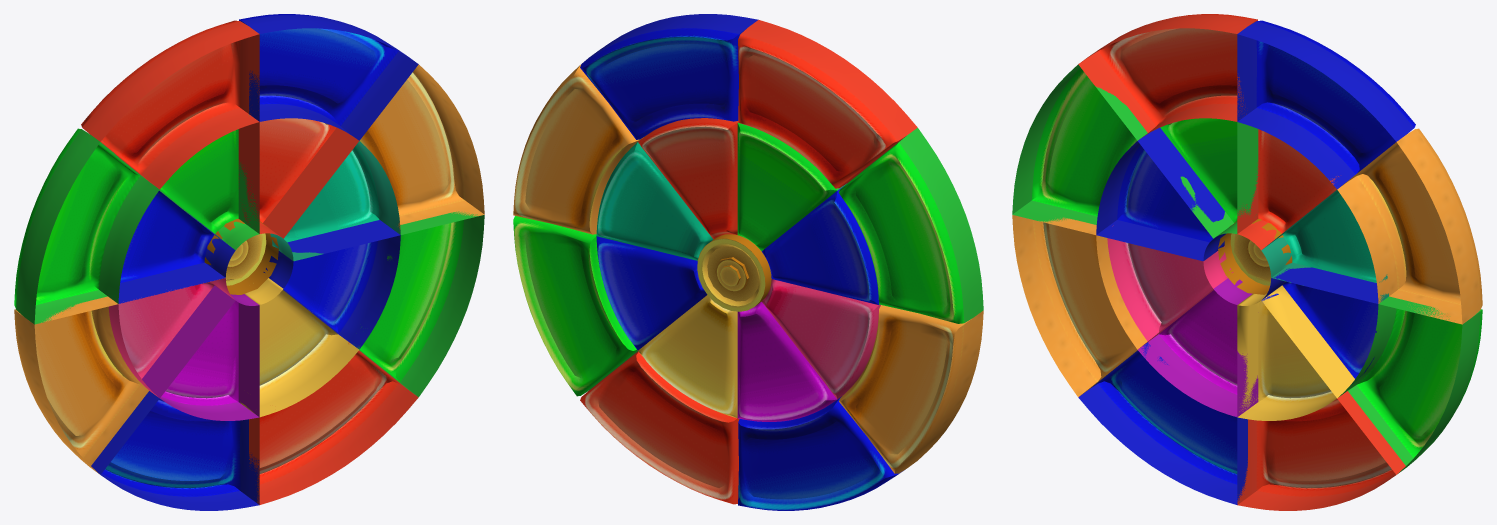
The model's file is Paris Bonus Wheel.FBX.
3 renders of one model, left to right at view 1: azimuth 30°, elevation 25°; view 2: azimuth 150°, elevation 25°; view 3: azimuth 330°, elevation 25°, orthographic.
Parts seen in each view (by area): view 1: Paris Bonus Wheel Outside Piece 02, Paris Bonus Wheel Outside Piece 03, Paris Bonus Wheel Outside Piece 01, Paris Bonus Wheel Outside Piece 05, Paris Bonus Wheel Outside Piece 07, Paris Bonus Wheel Outside Piece 04, Paris Bonus Wheel Outside Piece 06, Paris Bonus Wheel Outside Piece 08, Paris Bonus Wheel Inside Piece 05, Paris Bonus Wheel Inside Piece 07, Paris Bonus Wheel Inside Piece 01, Paris Bonus Wheel Inside Piece 06 (+5 smaller); view 2: Paris Bonus Wheel Outside Piece 03, Paris Bonus Wheel Outside Piece 02, Paris Bonus Wheel Outside Piece 04, Paris Bonus Wheel Outside Piece 01, Paris Bonus Wheel Outside Piece 07, Paris Bonus Wheel Outside Piece 06, Paris Bonus Wheel Outside Piece 05, Paris Bonus Wheel Outside Piece 08, Paris Bonus Wheel Inside Piece 04, Paris Bonus Wheel Inside Piece 01, Paris Bonus Wheel Inside Piece 02, Paris Bonus Wheel Inside Piece 03 (+5 smaller); view 3: Paris Bonus Wheel Outside Piece 01, Paris Bonus Wheel Outside Piece 08, Paris Bonus Wheel Outside Piece 04, Paris Bonus Wheel Outside Piece 07, Paris Bonus Wheel Outside Piece 02, Paris Bonus Wheel Outside Piece 05, Paris Bonus Wheel Outside Piece 06, Paris Bonus Wheel Outside Piece 03, Paris Bonus Wheel Inside Piece 03, Paris Bonus Wheel Inside Piece 06, Paris Bonus Wheel Inside Piece 05, Paris Bonus Wheel Inside Piece 02 (+5 smaller).
Boxes of the visible parts, box(x1,y1,x2,y2) form: Paris Bonus Wheel Outside Piece 02: box(81, 20, 259, 189); Paris Bonus Wheel Outside Piece 03: box(14, 128, 159, 324); Paris Bonus Wheel Outside Piece 01: box(239, 14, 418, 140); Paris Bonus Wheel Outside Piece 05: box(91, 391, 259, 510); Paris Bonus Wheel Outside Piece 07: box(354, 211, 484, 397); Paris Bonus Wheel Outside Piece 04: box(14, 296, 148, 474); Paris Bonus Wheel Outside Piece 06: box(249, 342, 418, 504); Paris Bonus Wheel Outside Piece 08: box(359, 64, 484, 229); Paris Bonus Wheel Inside Piece 05: box(142, 285, 259, 420); Paris Bonus Wheel Inside Piece 07: box(263, 220, 400, 348); Paris Bonus Wheel Inside Piece 01: box(238, 118, 358, 238); Paris Bonus Wheel Inside Piece 06: box(240, 278, 358, 417); Paris Bonus Wheel Outside Piece 03: box(839, 127, 983, 323); Paris Bonus Wheel Outside Piece 02: box(738, 20, 917, 188); Paris Bonus Wheel Outside Piece 04: box(839, 305, 983, 473); Paris Bonus Wheel Outside Piece 01: box(580, 14, 758, 139); Paris Bonus Wheel Outside Piece 07: box(513, 216, 637, 396); Paris Bonus Wheel Outside Piece 06: box(580, 351, 739, 504); Paris Bonus Wheel Outside Piece 05: box(738, 396, 904, 510); Paris Bonus Wheel Outside Piece 08: box(513, 64, 646, 234); Paris Bonus Wheel Inside Piece 04: box(761, 279, 880, 399); Paris Bonus Wheel Inside Piece 01: box(638, 118, 738, 239); Paris Bonus Wheel Inside Piece 02: box(737, 122, 845, 251); Paris Bonus Wheel Inside Piece 03: box(762, 184, 878, 304); Paris Bonus Wheel Outside Piece 01: box(1237, 20, 1415, 189); Paris Bonus Wheel Outside Piece 08: box(1337, 128, 1482, 324); Paris Bonus Wheel Outside Piece 04: box(1012, 215, 1147, 397); Paris Bonus Wheel Outside Piece 07: box(1338, 296, 1482, 474); Paris Bonus Wheel Outside Piece 02: box(1078, 14, 1257, 139); Paris Bonus Wheel Outside Piece 05: box(1078, 342, 1247, 504); Paris Bonus Wheel Outside Piece 06: box(1237, 391, 1405, 510); Paris Bonus Wheel Outside Piece 03: box(1012, 64, 1147, 224); Paris Bonus Wheel Inside Piece 03: box(1096, 127, 1226, 261); Paris Bonus Wheel Inside Piece 06: box(1237, 285, 1354, 420); Paris Bonus Wheel Inside Piece 05: box(1138, 278, 1258, 416); Paris Bonus Wheel Inside Piece 02: box(1160, 118, 1258, 238).
Bounding box in the file's own units: 202 × 202 × 22.73.
